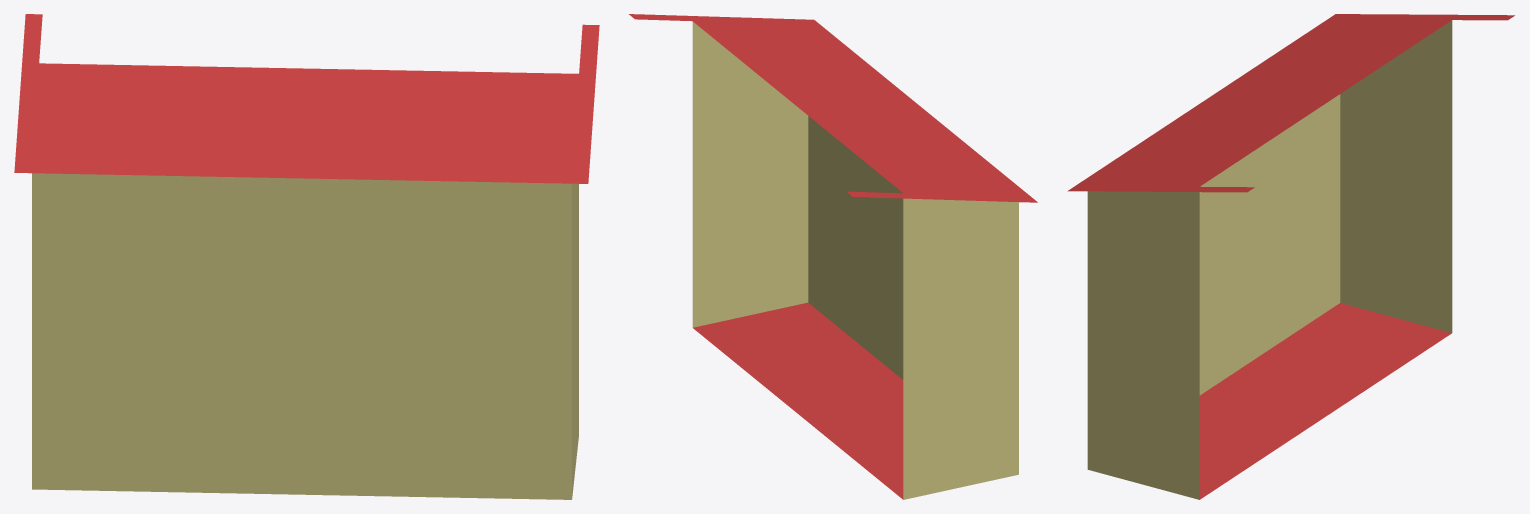
3 renders of one model, left to right at view 1: azimuth 30°, elevation 25°; view 2: azimuth 150°, elevation 25°; view 3: azimuth 270°, elevation 25°, orthographic. The views are drawn at different scales.
Bounding box in the file's own units: 9.04 × 7.58 × 6.11.
